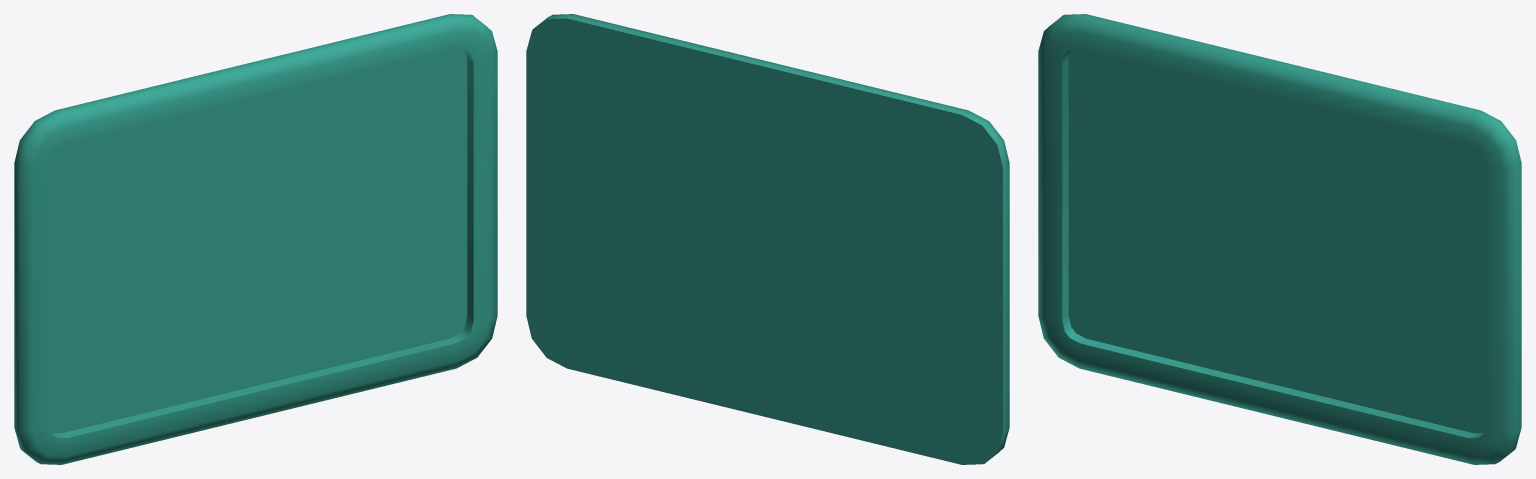
The model's file is workstation_display.glb.
The picture shows the model from 3 angles, left to right: view 1: azimuth 30°, elevation 25°; view 2: azimuth 150°, elevation 25°; view 3: azimuth 330°, elevation 25°; orthographic projection.
Visible parts, largest first — view 1: SquareFrame.004; view 2: SquareFrame.004; view 3: SquareFrame.004.
Boxes of the visible parts, x1,y1,x2,y2 form: SquareFrame.004: (14,14,497,464); SquareFrame.004: (526,14,1009,464); SquareFrame.004: (1038,14,1521,464).
Size of what is drawn, in the model's own units: 0.8841 by 0.6219 by 0.0295.
1 material, 1 textured.
